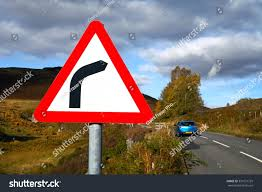Bend_to_right: (30, 18, 155, 126)
